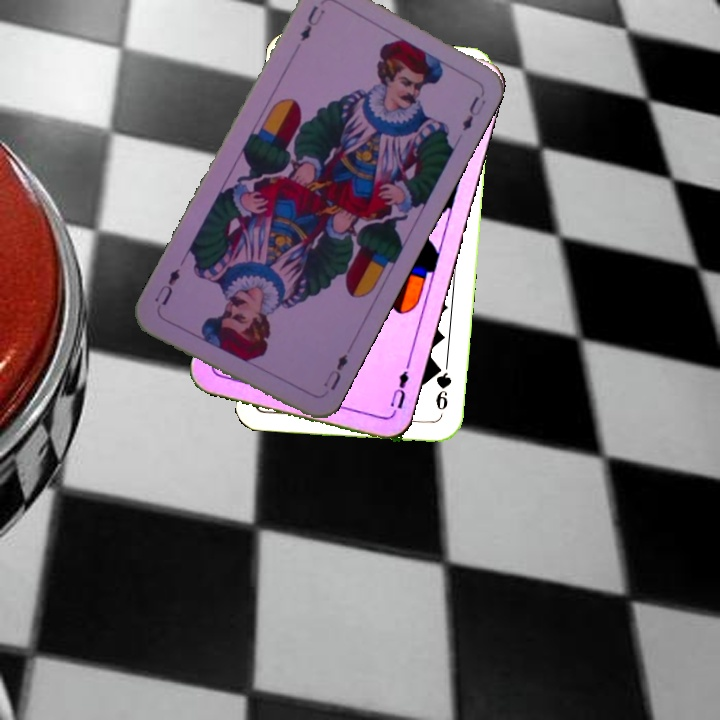EU: (386, 361, 413, 418), (319, 349, 351, 393), (296, 1, 328, 44)
G9: (432, 360, 454, 413)
